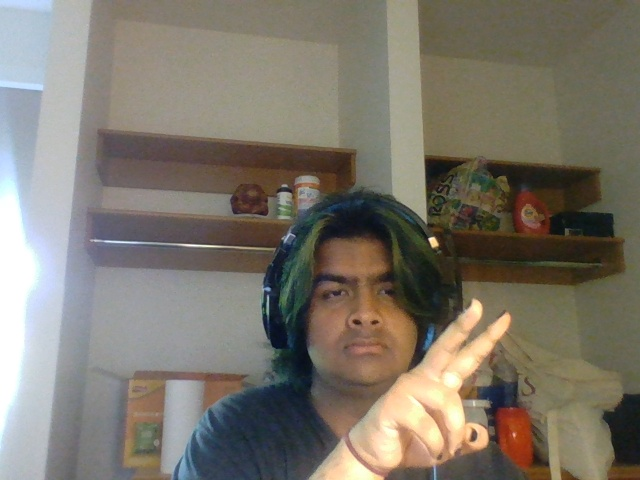v: (356, 291, 515, 467)
